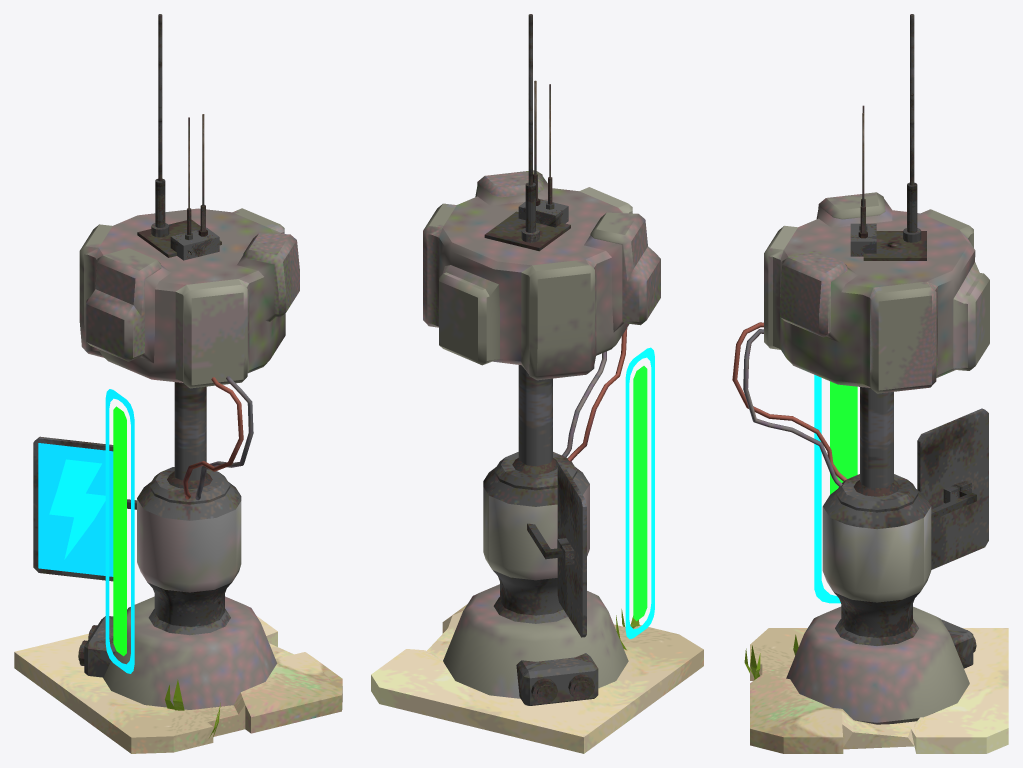
Rendered from solarStation1-4.glb.
The picture shows the model from 3 angles, left to right: view 1: azimuth 30°, elevation 25°; view 2: azimuth 150°, elevation 25°; view 3: azimuth 270°, elevation 25°; orthographic projection. The views are drawn at different scales.
Visible parts, largest first — view 1: antennaTower, foundation.001, screen1, chargeMeter, antennasTop, antennaTower.001, wire.011, wire.012; view 2: antennaTower, foundation.001, chargeMeter, screen1, antennasTop, antennaTower.001, wire.011, wire.012; view 3: antennaTower, foundation.001, screen1, chargeMeter, antennasTop, wire.011, wire.012, antennaTower.001.
Boxes of the visible parts, bbox=[...] form: antennaTower: bbox=[79, 208, 299, 709]; foundation.001: bbox=[14, 616, 342, 753]; screen1: bbox=[33, 436, 136, 581]; chargeMeter: bbox=[105, 389, 134, 673]; antennasTop: bbox=[137, 14, 221, 260]; antennaTower.001: bbox=[84, 616, 115, 677]; wire.011: bbox=[183, 377, 243, 499]; wire.012: bbox=[195, 376, 253, 500]; antennaTower: bbox=[423, 170, 660, 698]; foundation.001: bbox=[371, 604, 703, 753]; chargeMeter: bbox=[625, 347, 654, 639]; screen1: bbox=[527, 464, 586, 637]; antennasTop: bbox=[484, 14, 570, 251]; antennaTower.001: bbox=[516, 653, 598, 705]; wire.011: bbox=[567, 328, 627, 461]; wire.012: bbox=[562, 351, 606, 457]; antennaTower: bbox=[764, 192, 989, 724]; foundation.001: bbox=[750, 628, 1008, 753]; screen1: bbox=[917, 408, 988, 569]; chargeMeter: bbox=[814, 375, 857, 603]; antennasTop: bbox=[850, 14, 926, 260]; wire.011: bbox=[732, 322, 846, 481]; wire.012: bbox=[743, 329, 842, 486]; antennaTower.001: bbox=[940, 619, 973, 668].
Size of the model in its own units: 0.924 by 2.7 by 0.9872.
Materials: 4 (2 with a texture image).
